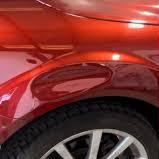dent: (20, 59, 123, 106)
